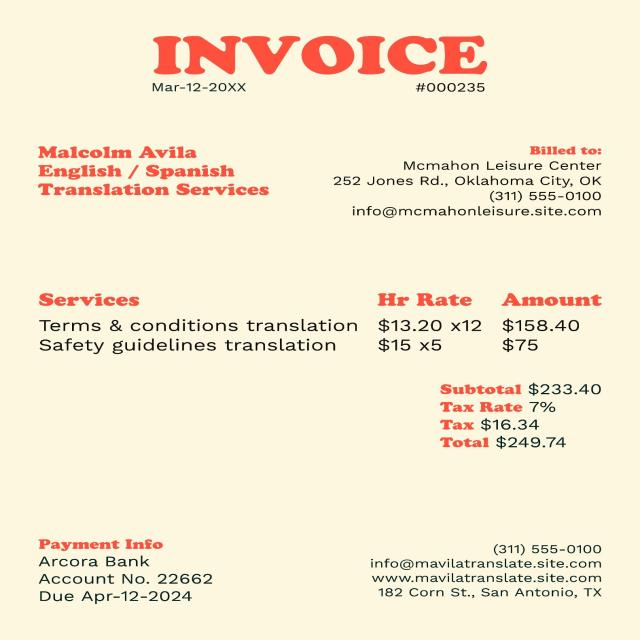paragraph: (330, 136, 614, 218), (367, 536, 616, 608), (139, 27, 498, 76), (31, 141, 280, 205), (35, 532, 221, 609), (433, 376, 607, 451), (408, 82, 492, 96), (150, 82, 254, 93)
table: (26, 282, 614, 370)
